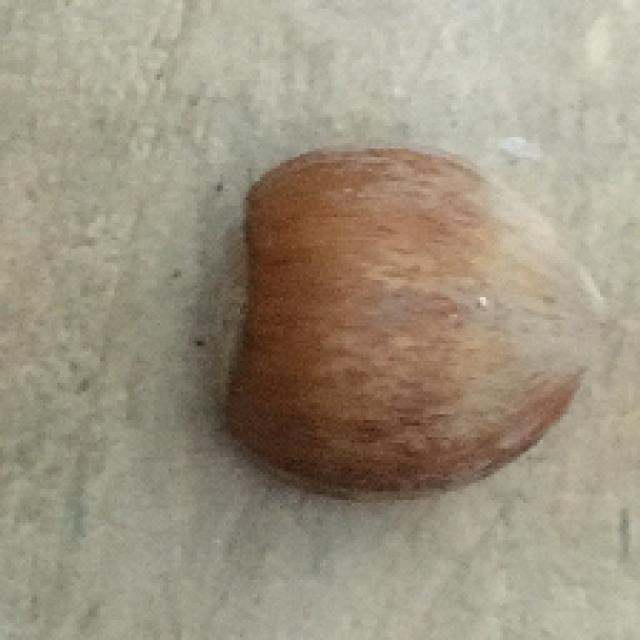qualityHazelnut: (200, 135, 621, 498)
